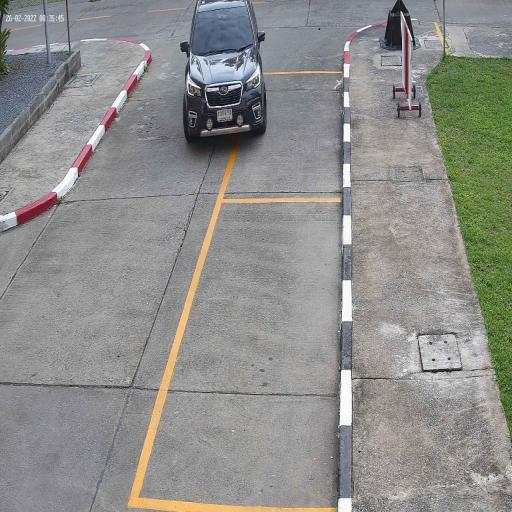car: (181, 0, 268, 146)
